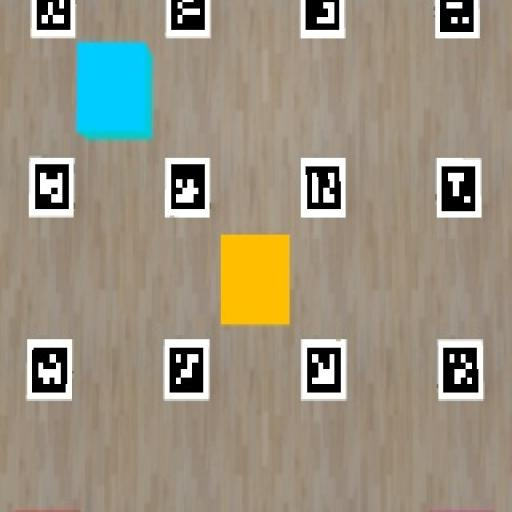car: (76, 41, 153, 140)
fire: (221, 235, 289, 326)
